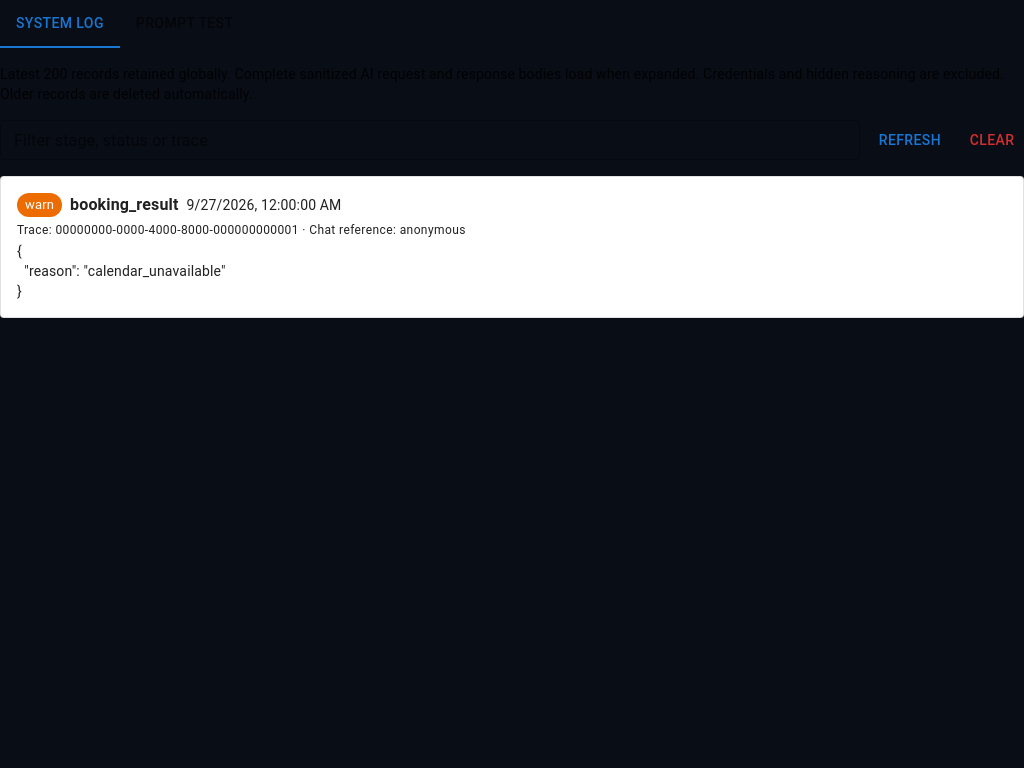
Scenario: debug page access › confirms before clearing retained logs, then reloads the empty log
Check: the text "booking_result" is shown, box x1=70 y1=193 x2=178 y2=217
Click the button "Clear".
click(992, 140)  # box x1=960 y1=120 x2=1023 y2=160
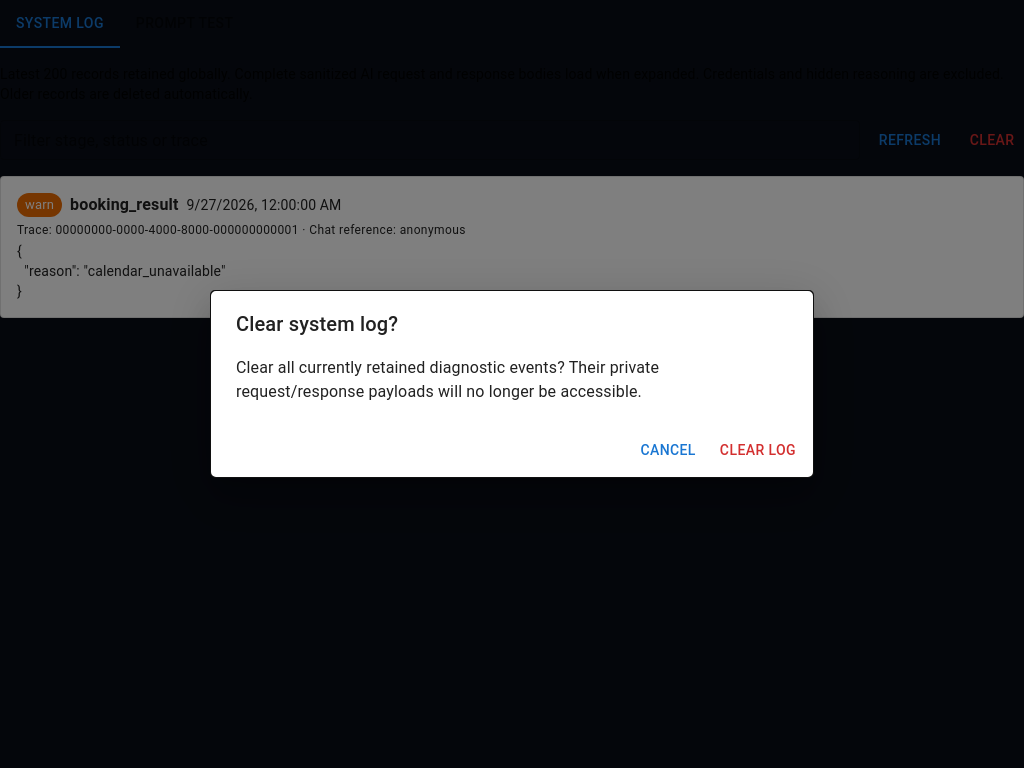
Check: the dialog "Clear system log?" is shown, box x1=212 y1=292 x2=812 y2=476
Click the button "Clear log".
click(758, 450)  # box x1=712 y1=432 x2=804 y2=468
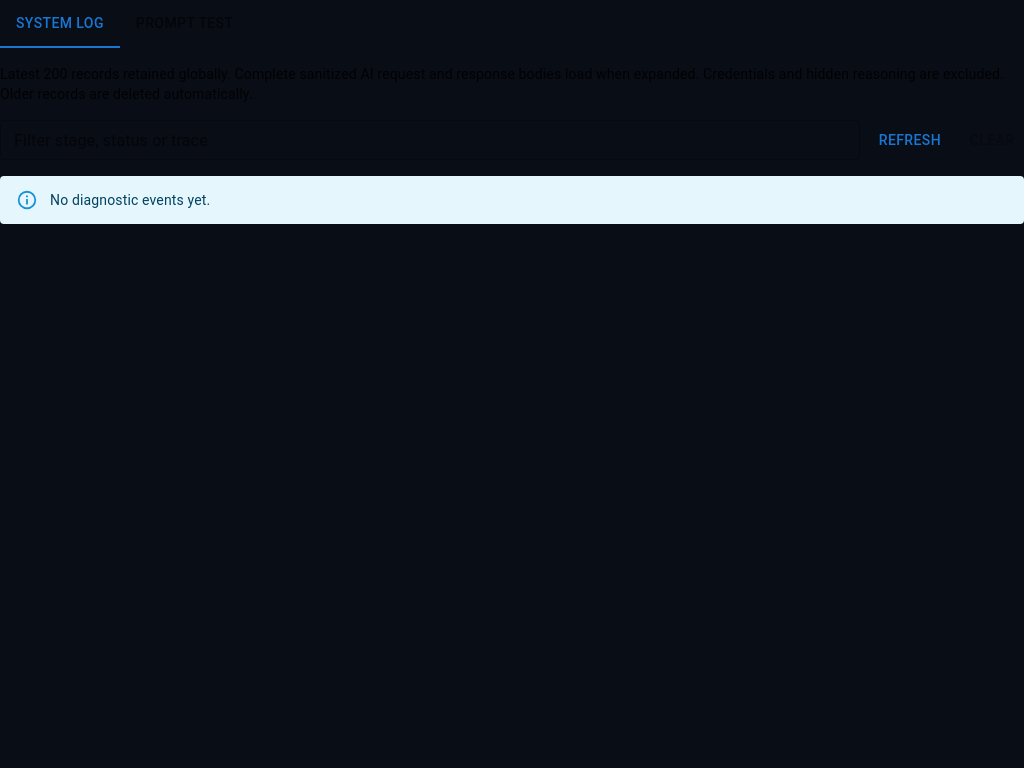
Check: the text "No diagnostic events yet." is shown, box x1=50 y1=192 x2=210 y2=208
